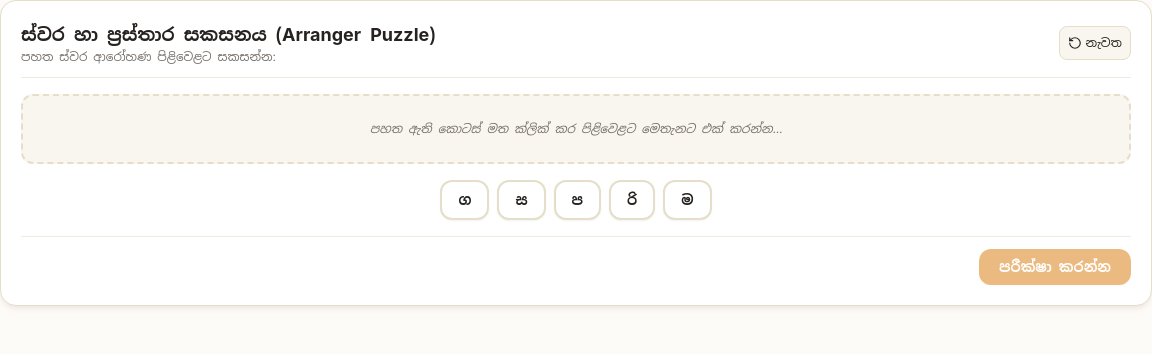
Test: Swara playback rejection consumers › contains rejected NotationArranger tone promises
Click the button "ස" at (522, 200), box [497,180,546,220]
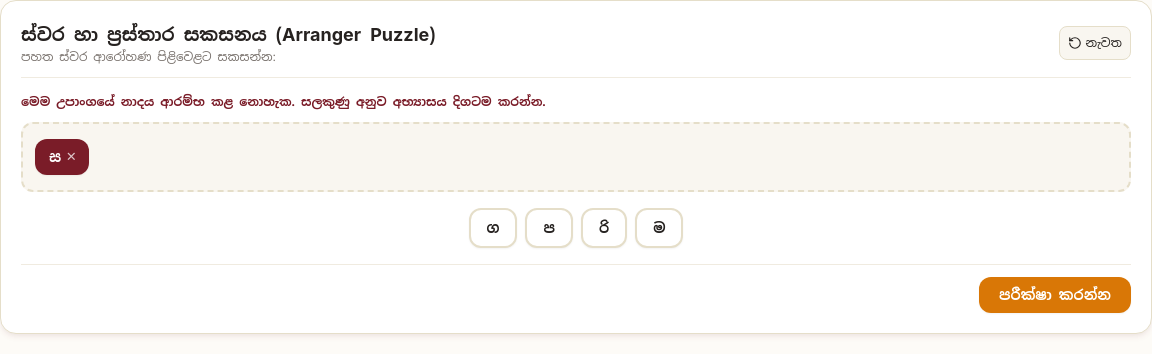
Now the message shows "නාදය ආරම්භ කළ නොහැක", box [21,94,546,110]
